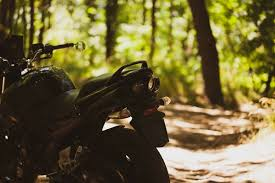motorcycle: (1, 33, 174, 183)
